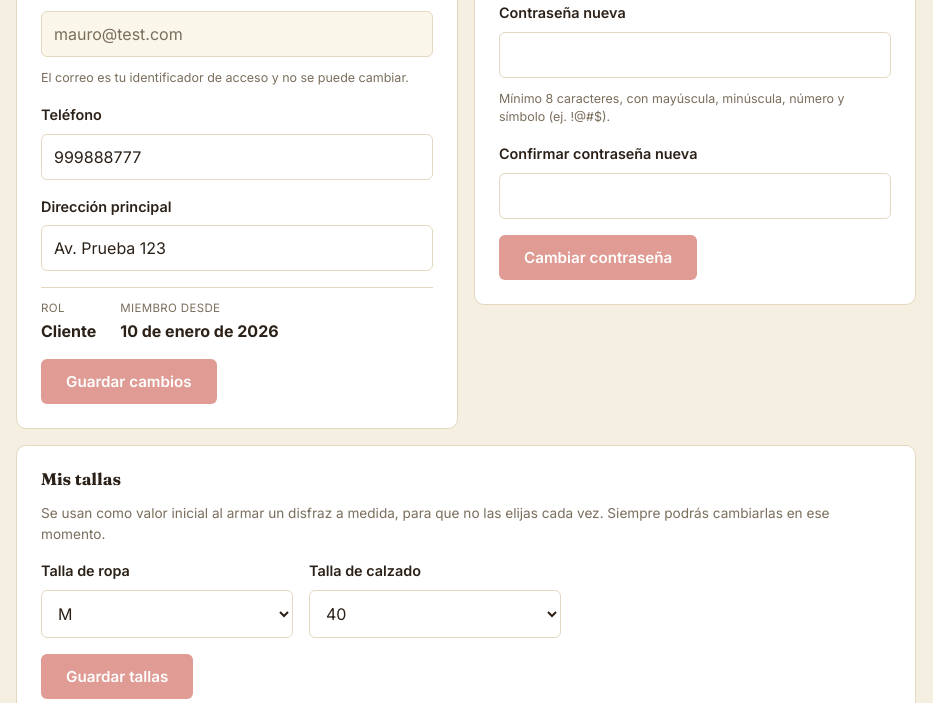
Scenario: Pruebas funcionales - Perfil › PF-FE-78: permite actualizar las tallas guardadas del usuario
This screenshot has width=933, height=703.
(page scrolled)
expect the dropdown labelled "Talla de calzado" shows "40": met, box x1=309 y1=590 x2=561 y2=638
Select "L" in the dropdown labelled "Talla de ropa" at (167, 614), box x1=41 y1=590 x2=293 y2=638
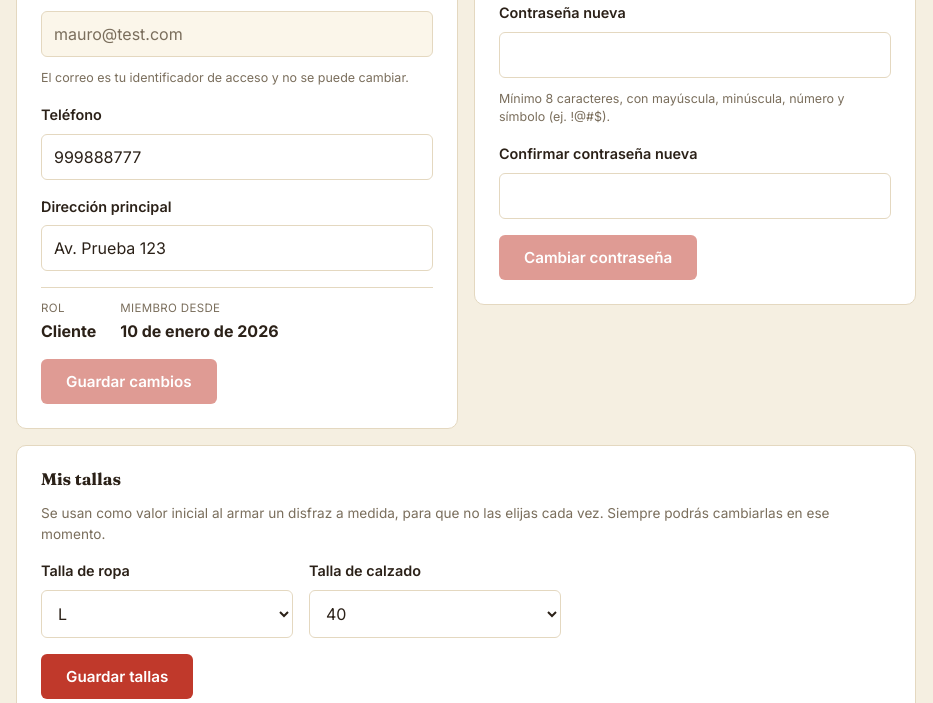
Select "42" in the dropdown labelled "Talla de calzado" at (435, 614), box x1=309 y1=590 x2=561 y2=638
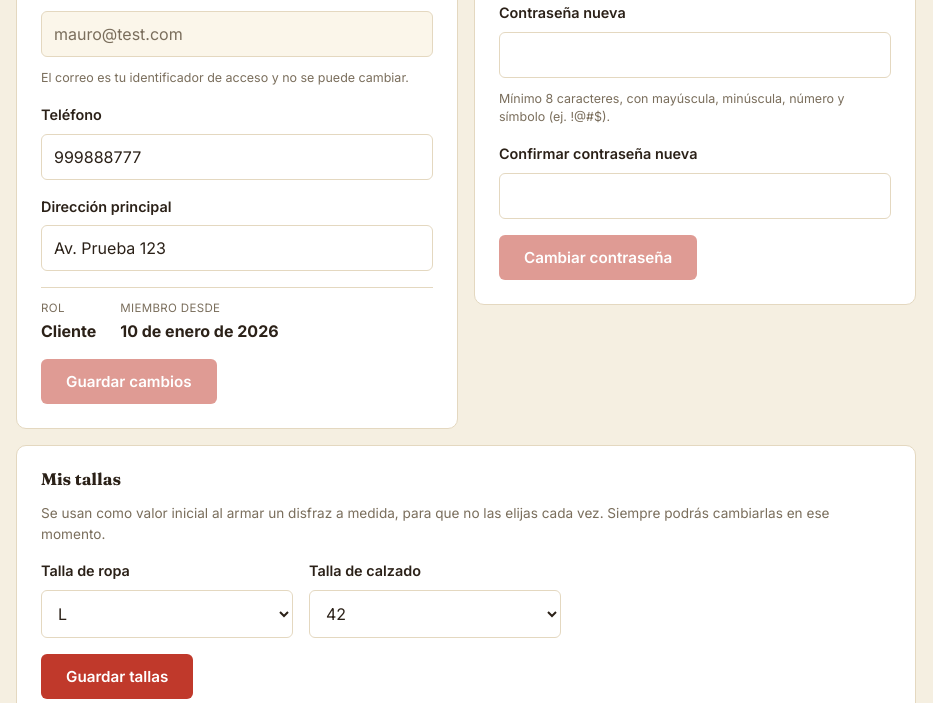
Click the button "Guardar tallas".
click(117, 676)  # box x1=41 y1=654 x2=193 y2=699
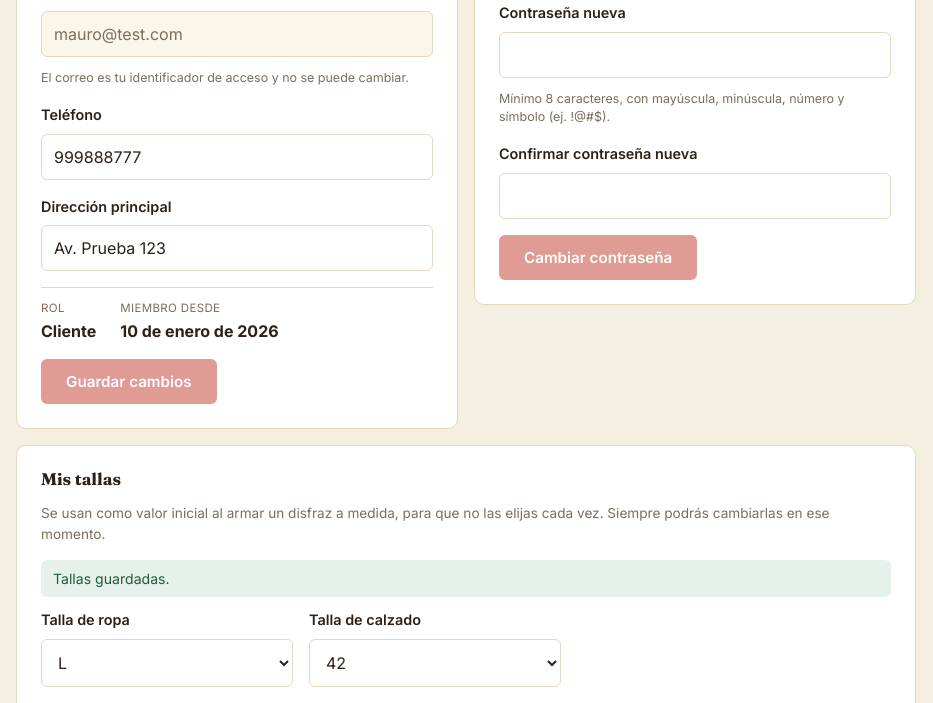
expect the text "Tallas guardadas." is shown: met, box x1=41 y1=560 x2=891 y2=597
